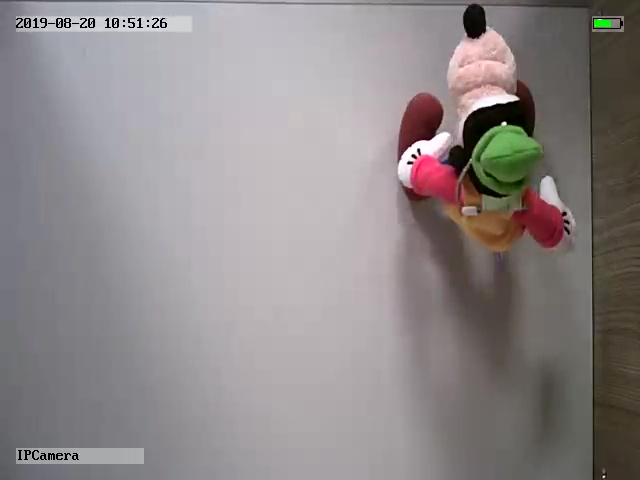goofy: (398, 4, 576, 253)
